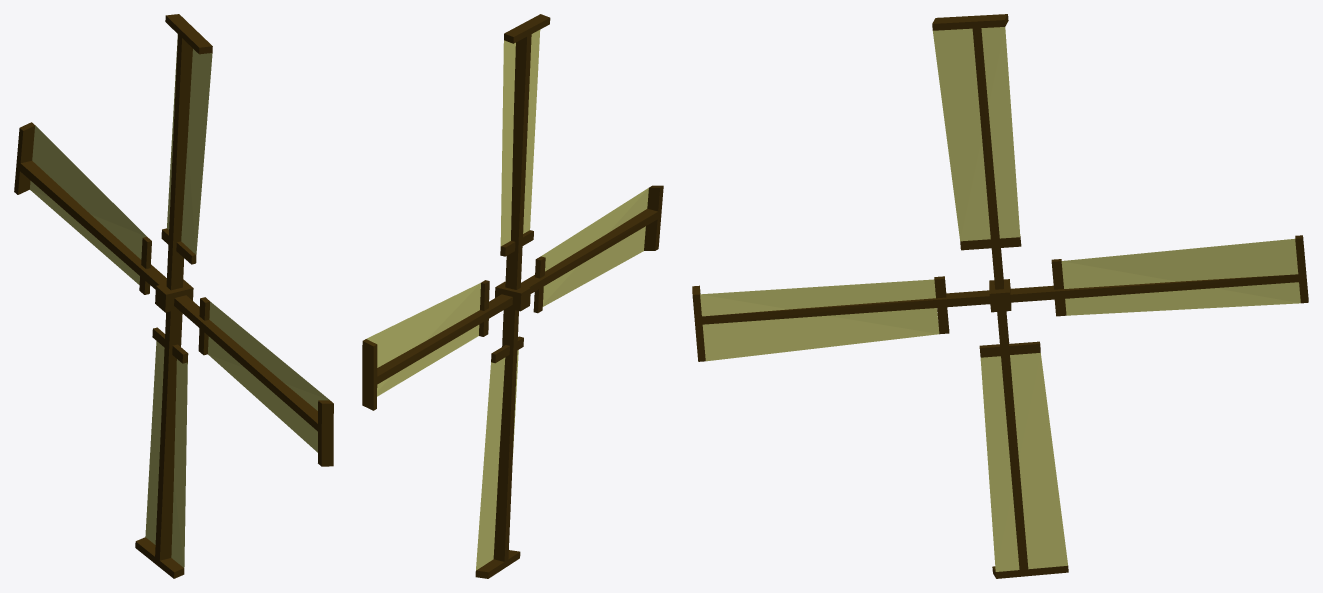
Rendered from town_blades0001.obj.
The picture shows the model from 3 angles, left to right: view 1: azimuth 30°, elevation 25°; view 2: azimuth 150°, elevation 25°; view 3: azimuth 270°, elevation 25°; orthographic projection. The views are drawn at different scales.
Parts seen in each view (by area): view 1: Sails; view 2: Sails; view 3: Sails.
Boxes of the visible parts, x1,y1,x2,y2 form: Sails: (14,14,333,578); Sails: (362,14,663,578); Sails: (692,14,1308,578).
Bounding box in the file's own units: 0.5135 × 9.94 × 9.94.
